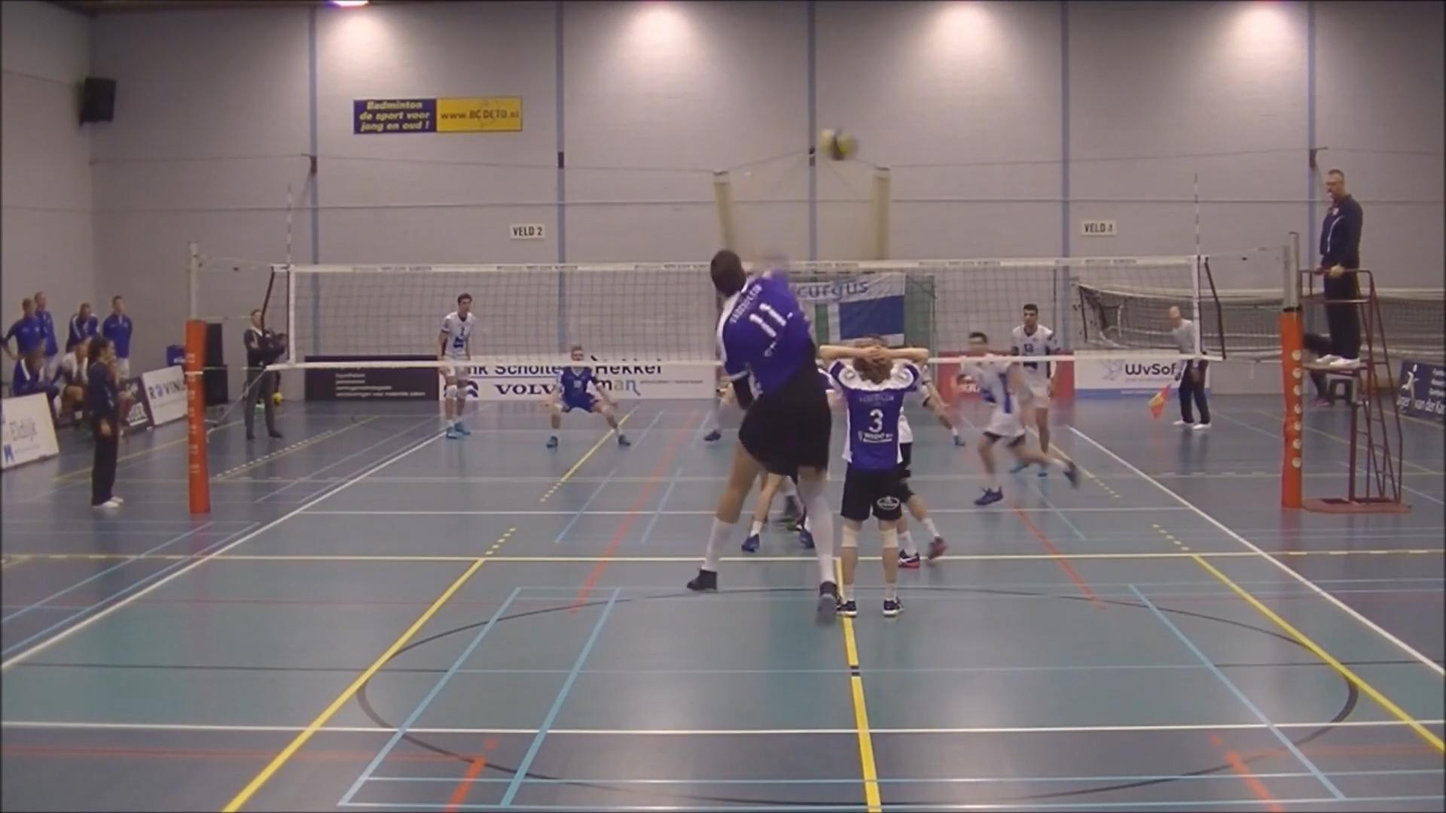battuta: (693, 244, 842, 623)
